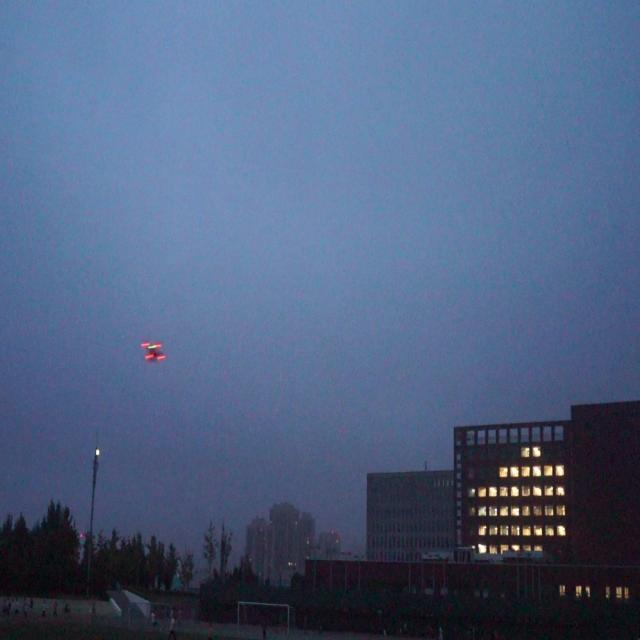UAV: (140, 342, 166, 360)
